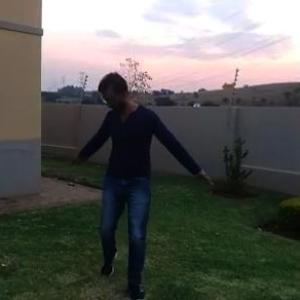land: (63, 64, 222, 290)
